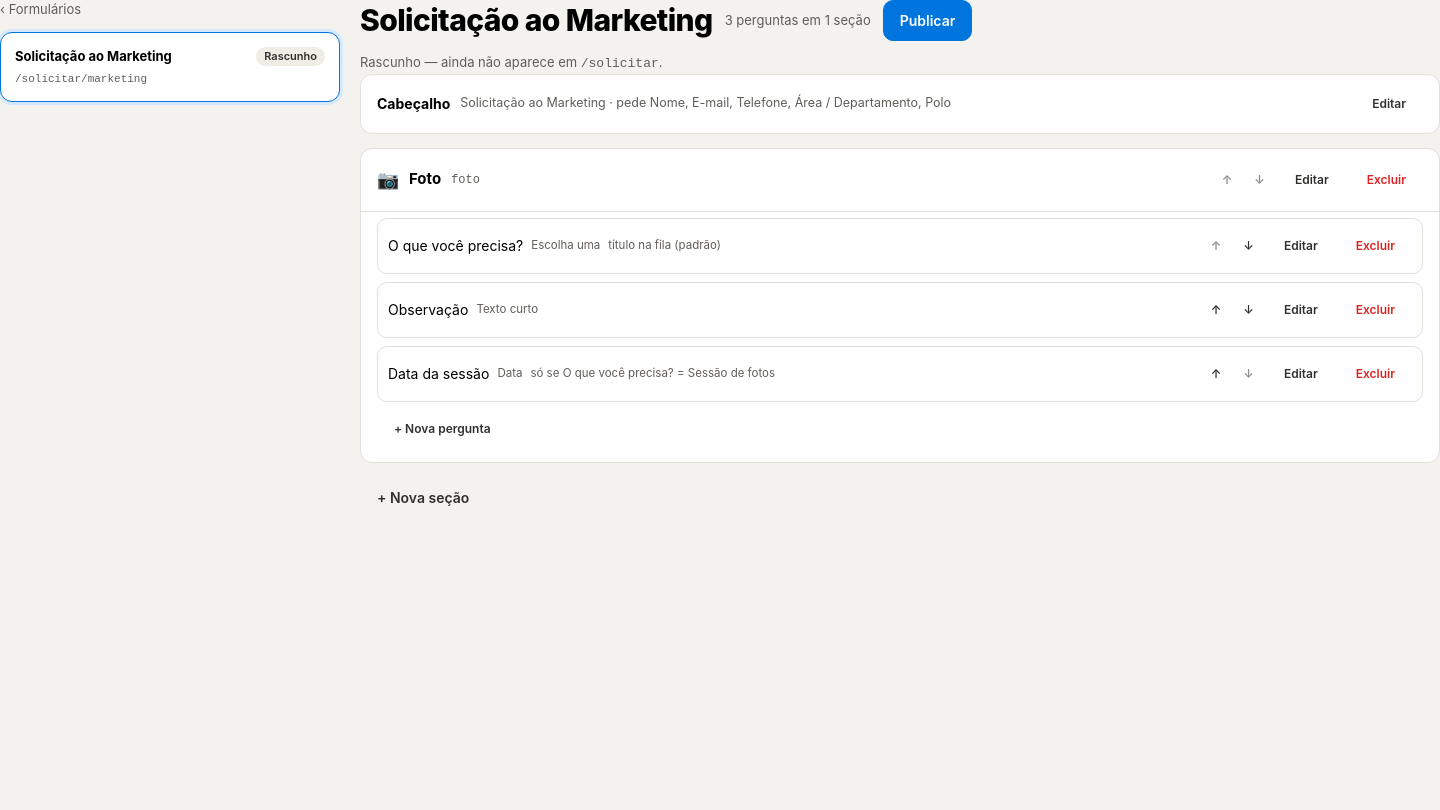
Test: o cabeçalho do formulário › ⚠️ CANCELAR desfaz -- o resumo não pode mentir sobre o banco
The image size is (1440, 810).
Click the button "Editar" in the row of "· pede". click: (1389, 104)
box: [1355,84,1423,122]
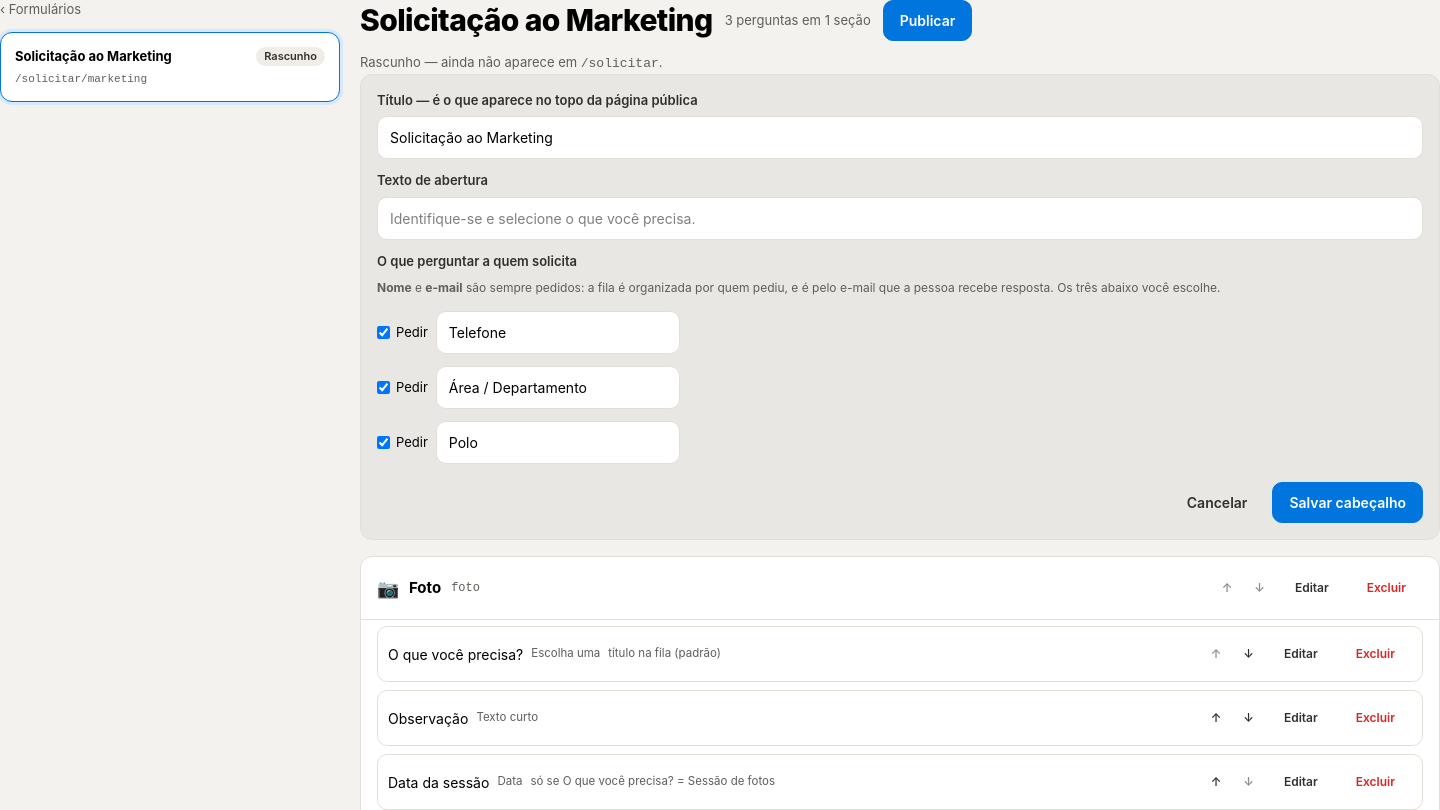
Click the 3rd checkbox labelled "Pedir". click: (384, 442)
box: [377,436,390,449]
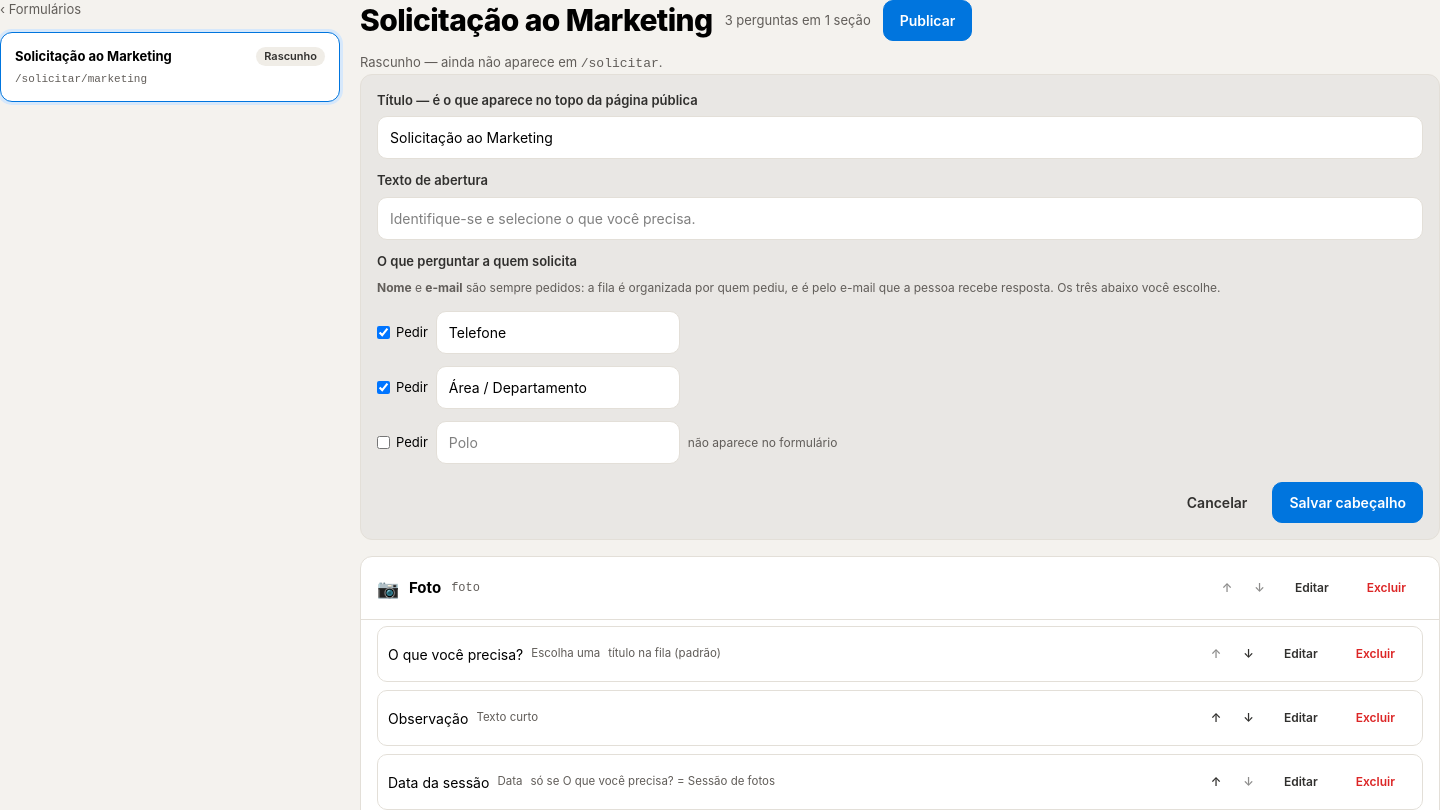
Click the button "Cancelar". click: (1217, 502)
box: [1170,482,1264,523]
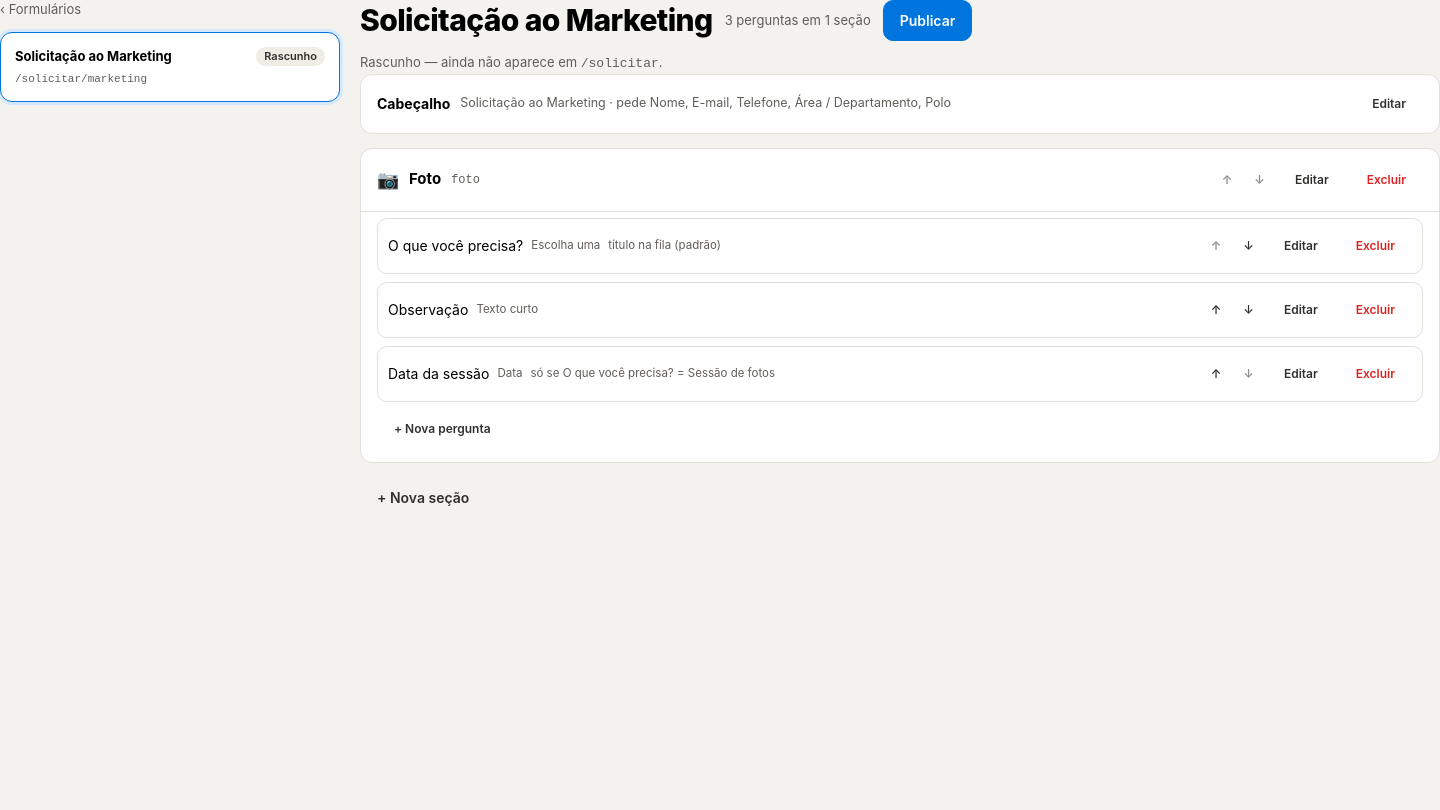
Expected: the text "pede Nome, E-mail, Telefone" is shown, [460,94,951,113]
Expected: the text "Polo" is shown, [650,95,951,110]
